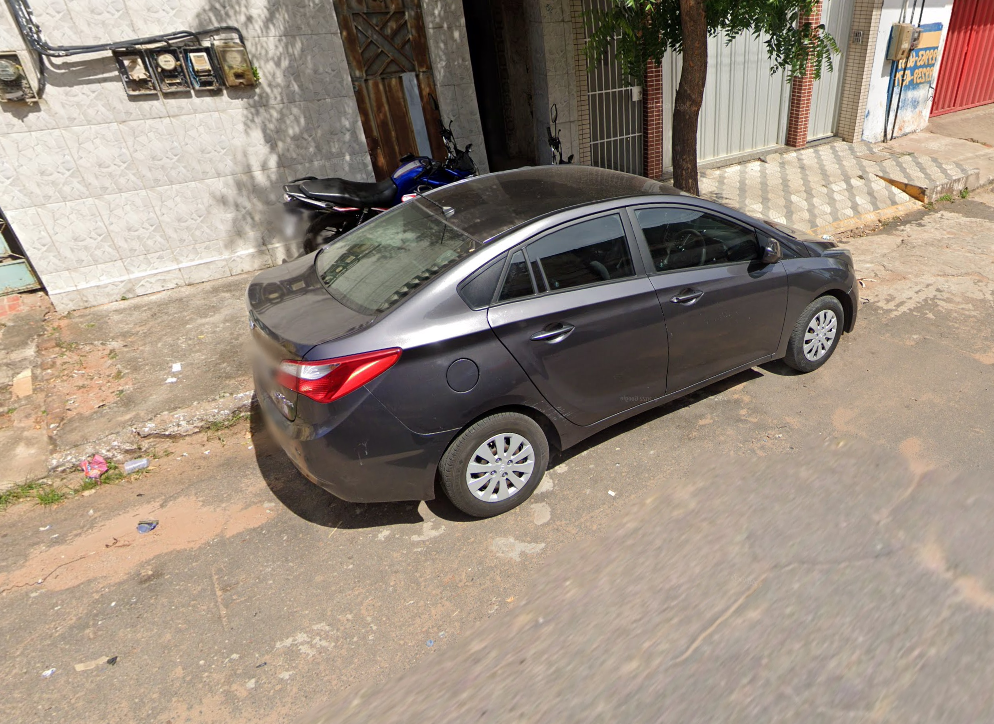car: (231, 151, 871, 536)
